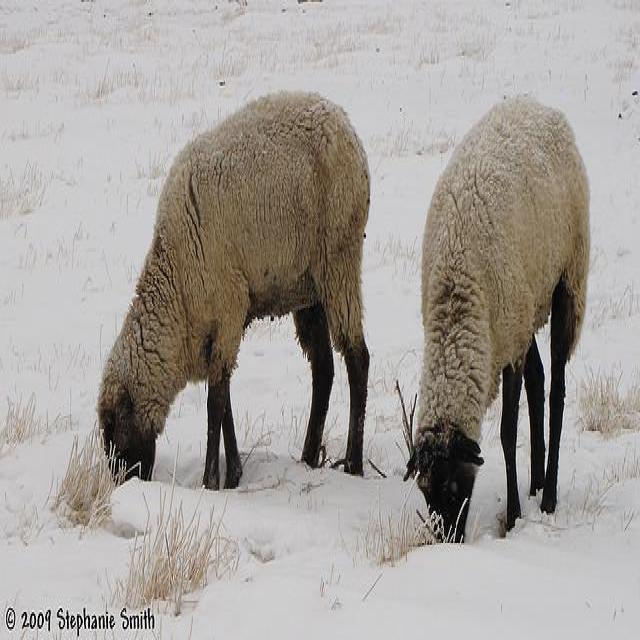Sheep: (98, 93, 371, 489), (403, 97, 593, 545)
